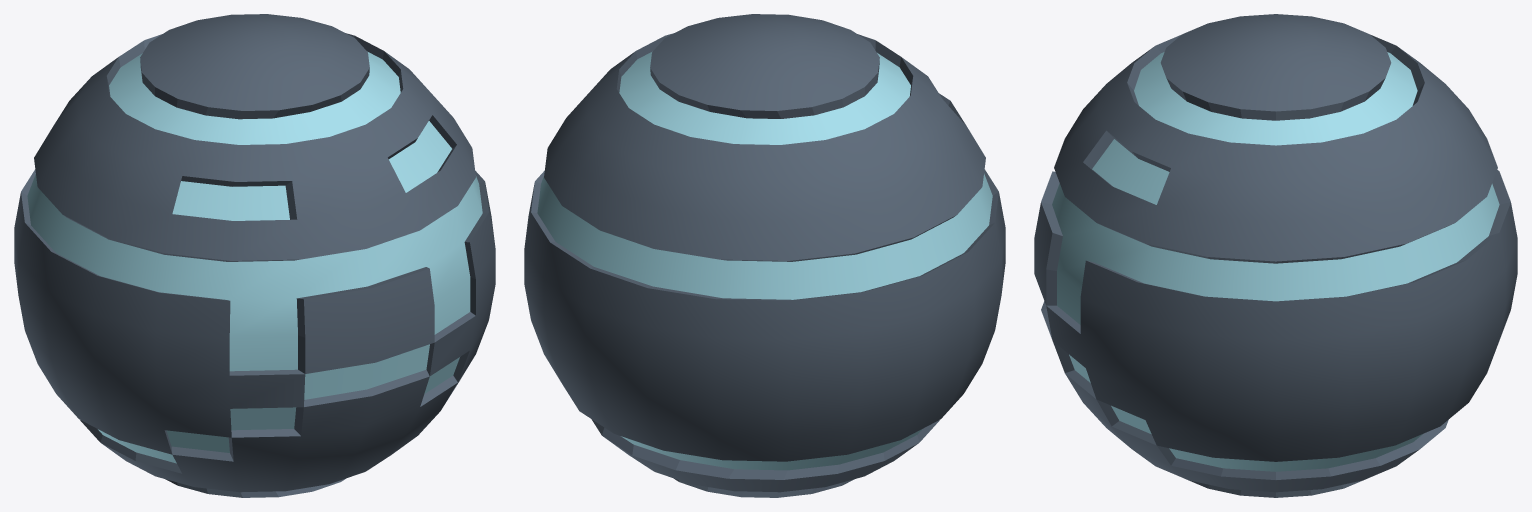
The picture shows the model from 3 angles, left to right: view 1: azimuth 30°, elevation 25°; view 2: azimuth 150°, elevation 25°; view 3: azimuth 270°, elevation 25°; orthographic projection.
Visible parts, largest first — view 1: pSphere27; view 2: pSphere27; view 3: pSphere27.
Part boxes in pixels (bbox=[...]): pSphere27: bbox=[14, 14, 495, 497]; pSphere27: bbox=[524, 14, 1005, 497]; pSphere27: bbox=[1034, 14, 1517, 497].
Bounding box in the file's own units: 58.31 × 58.51 × 58.31.
